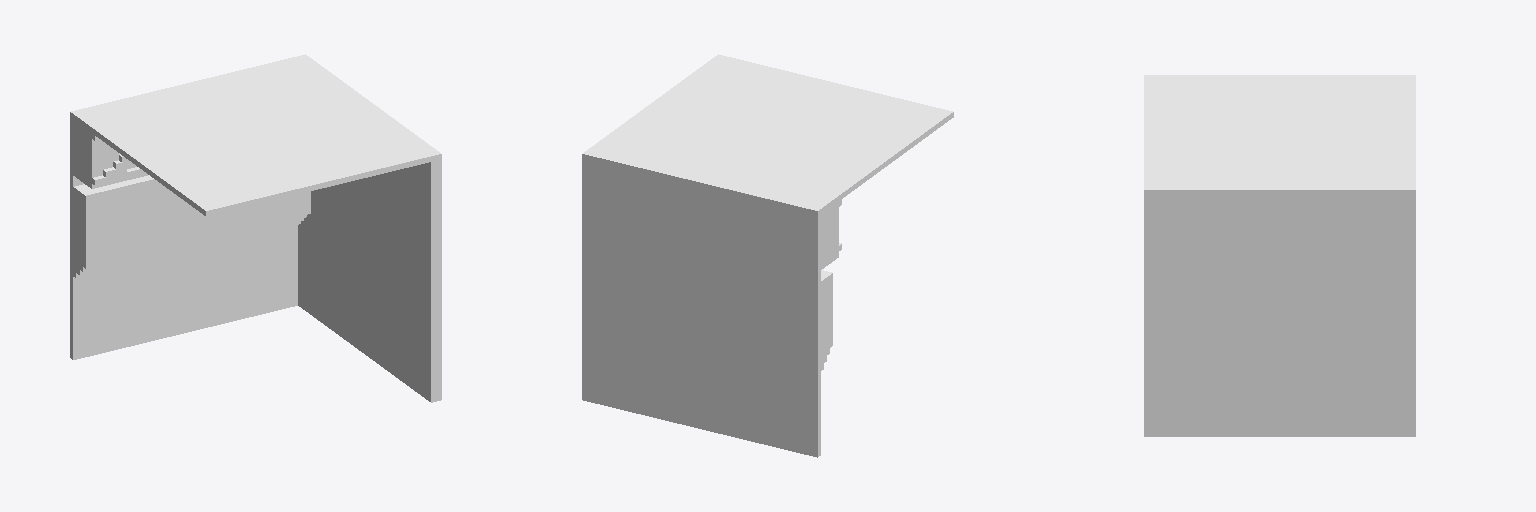
Rendered from mesh_hanger_entrance_top_right.obj.
3 views of the same model, side by side, from view 1: azimuth 30°, elevation 25°; view 2: azimuth 150°, elevation 25°; view 3: azimuth 270°, elevation 25° (orthographic).
Visible parts, largest first — view 1: object 1; view 2: object 1; view 3: object 1.
Boxes of the visible parts, <box> form: object 1: <box>70,54,441,402</box>; object 1: <box>582,54,953,457</box>; object 1: <box>1144,75,1415,436</box>.
Bounding box in the file's own units: 4.4 × 4.4 × 4.4.